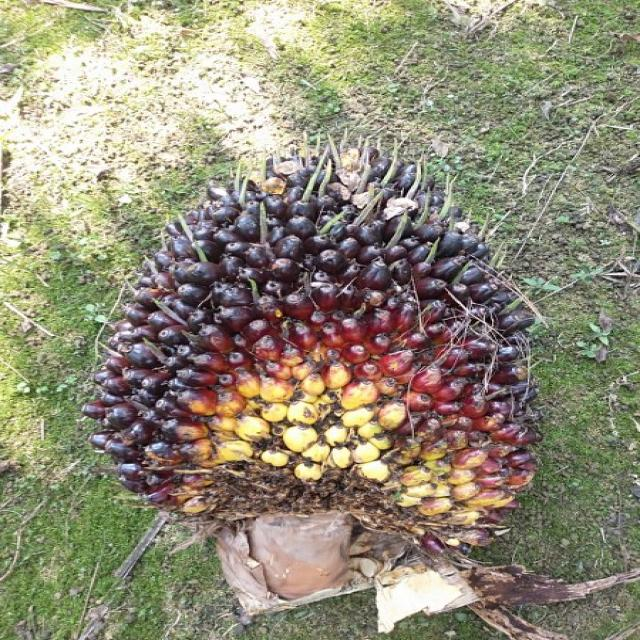fraksi 00: (96, 165, 544, 534)
